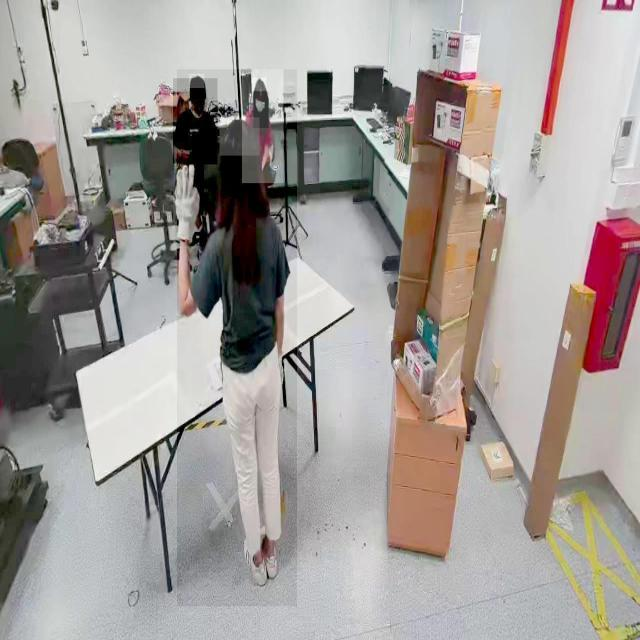face_mask: (254, 92, 268, 128)
hand_glove: (176, 165, 204, 246)
head_nohelmet: (220, 118, 260, 156), (189, 74, 205, 89), (251, 77, 267, 91)
person: (177, 69, 297, 607), (242, 69, 284, 183), (173, 78, 217, 164)
shoes: (240, 528, 268, 589), (257, 516, 283, 580)
